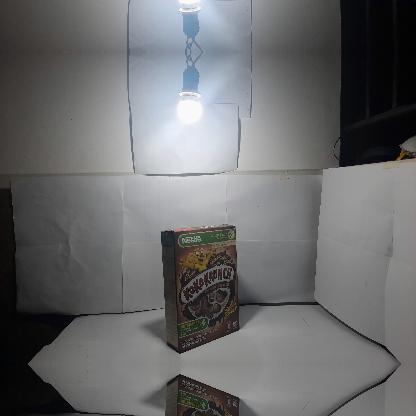Koko-Krunch: (160, 224, 240, 354), (160, 374, 241, 415)
